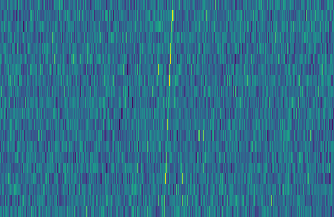signal: (158, 0, 177, 217)
